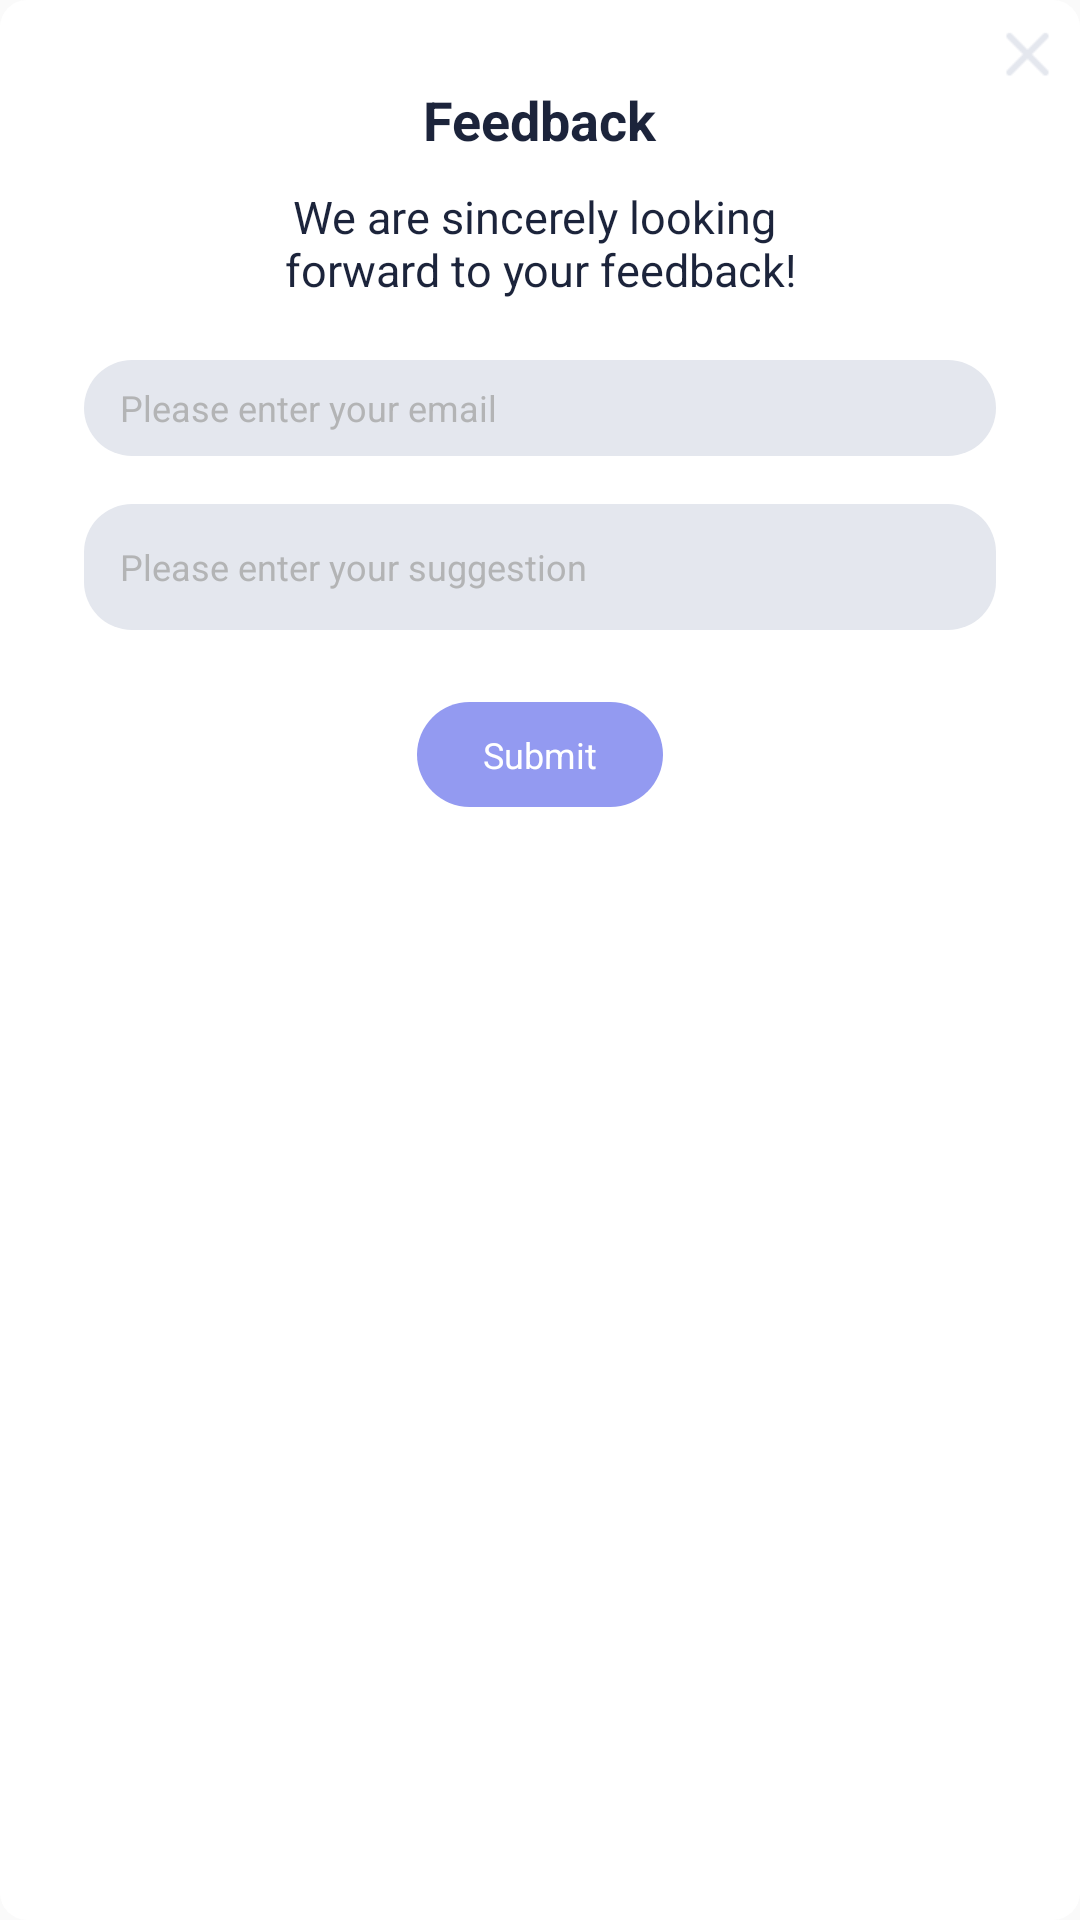

Named icons in this screenshot (1080px x 1920px) and their centers, (x,y):
back: (1027,54)
